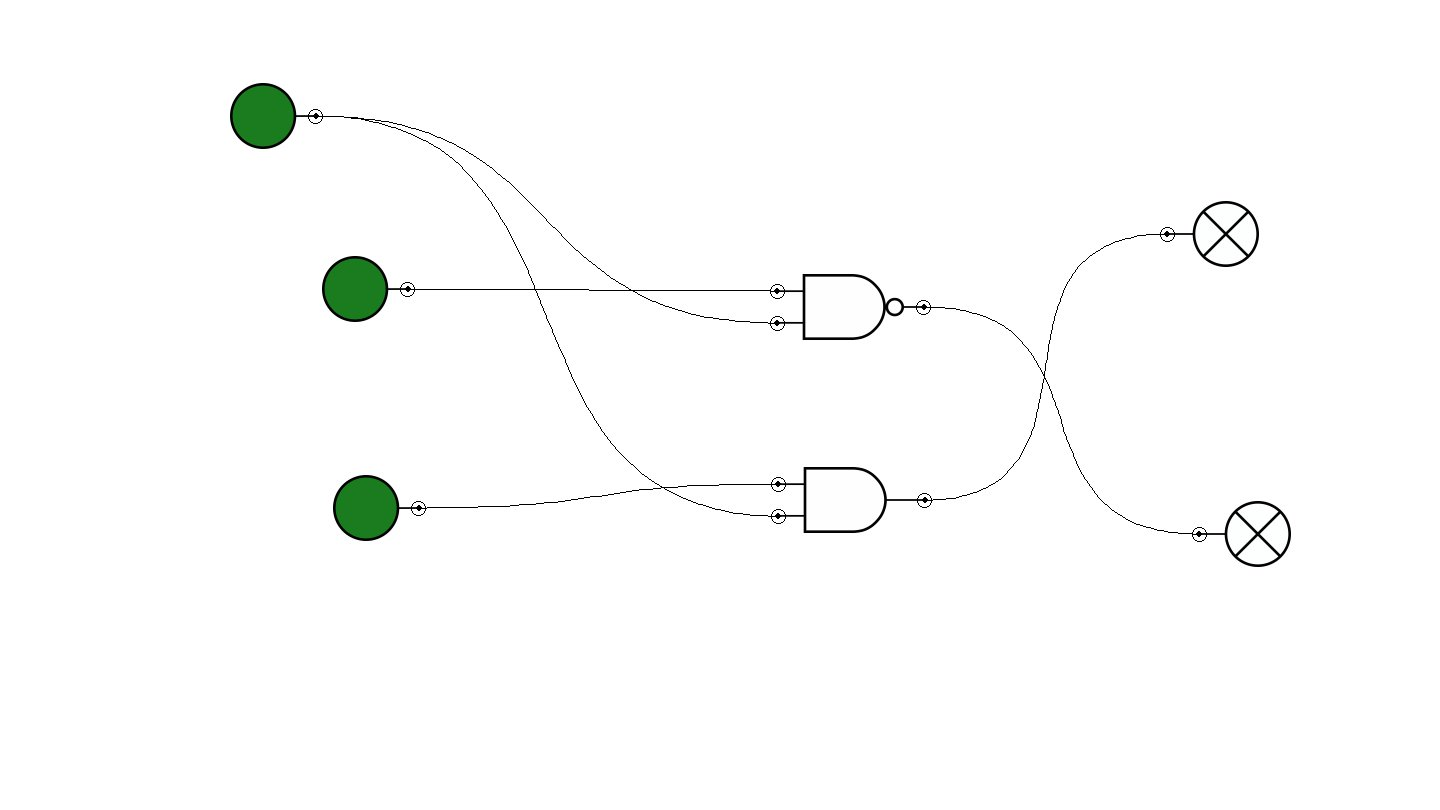and: (771, 467, 932, 533)
bulb: (1192, 501, 1291, 567), (1160, 201, 1259, 267)
nand: (770, 274, 931, 340)
switch_True: (230, 83, 323, 149), (333, 475, 426, 541), (322, 256, 415, 322)
